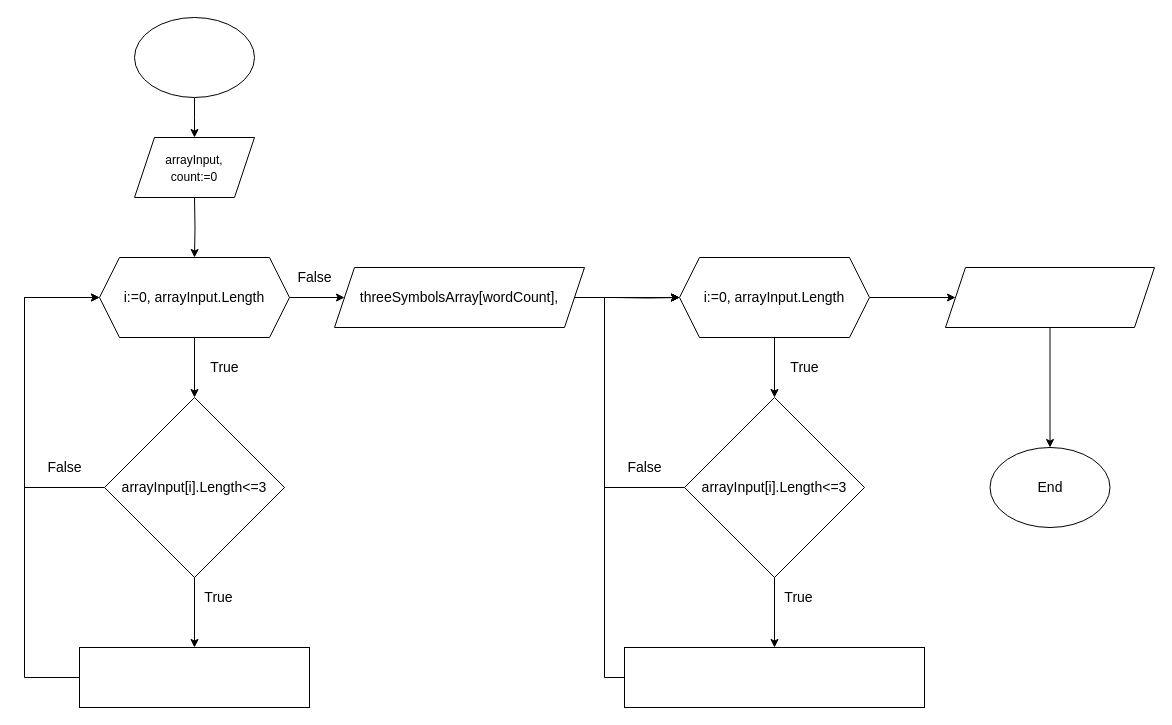
Image size: 1172x725. Some labels were removed from this diagram. The centre of each missing label's shape, as x and y in pixels:
"Start" belongs at point 194,57.
"threeSymbolsArray" belongs at point 1049,297.
"threeSymbolsArray[count]:=arrayInput[i], count:=count+1" belongs at point 774,677.
"wordCount:=wordCount+1" belongs at point 194,677.
